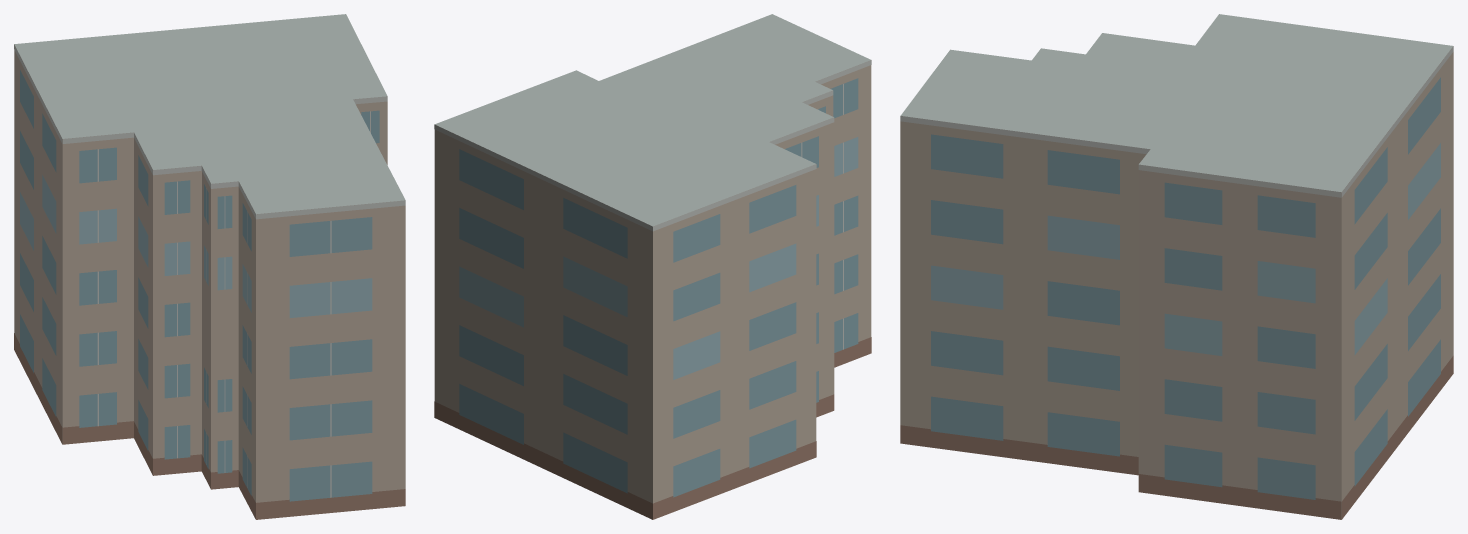
The model's file is survey-upis-32876509.glb.
3 views of the same model, side by side, from view 1: azimuth 30°, elevation 25°; view 2: azimuth 150°, elevation 25°; view 3: azimuth 270°, elevation 25° (orthographic). The views are drawn at different scales.
Visible parts, largest first — view 1: survey-upis-32876509.tmp; view 2: survey-upis-32876509.tmp; view 3: survey-upis-32876509.tmp.
Boxes of the visible parts, box(x1,y1,x2,y2) form: survey-upis-32876509.tmp: box(14, 14, 405, 519); survey-upis-32876509.tmp: box(434, 14, 871, 519); survey-upis-32876509.tmp: box(900, 14, 1453, 519).
Size of the model in its own units: 16.81 by 14.4 by 22.04.
